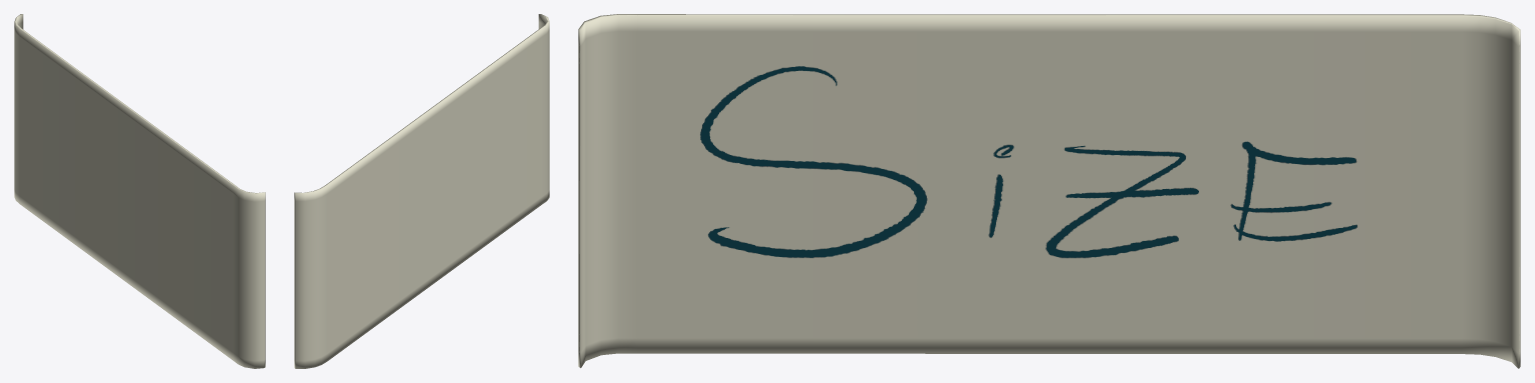
Rendered from papelzinhoSize.fbx.
The picture shows the model from 3 angles, left to right: view 1: azimuth 30°, elevation 25°; view 2: azimuth 150°, elevation 25°; view 3: azimuth 270°, elevation 25°; orthographic projection. The views are drawn at different scales.
Visible parts, largest first — view 1: Papelzinho; view 2: Papelzinho; view 3: Papelzinho.
Part boxes in pixels (x1=…): Papelzinho: x1=14, y1=14, x2=265, y2=368; Papelzinho: x1=294, y1=14, x2=549, y2=368; Papelzinho: x1=578, y1=14, x2=1520, y2=368.
Size of the model in its own units: 6.73 by 60.75 by 154.
